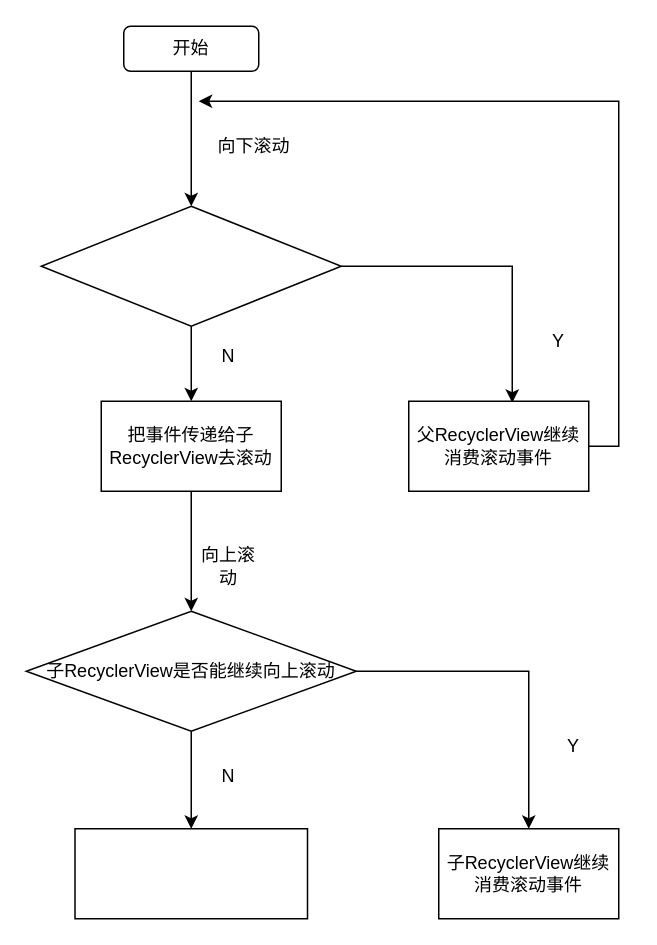
Some shapes in this 657 by 945 pixel diagram are drawn without their labels. The shapes that lost their labels are listed below. From the top down, each one's centre as x and y in pixels, then its label:
At (190,265): "父RecyclerView是否能继续向下滚动".
At (191,873): "把事件传递给父RecyclerView去滚动".
